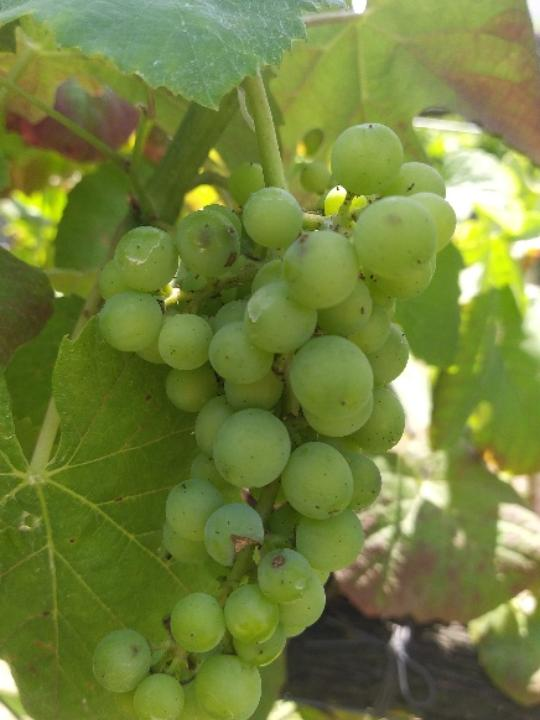grape: (84, 112, 462, 720)
